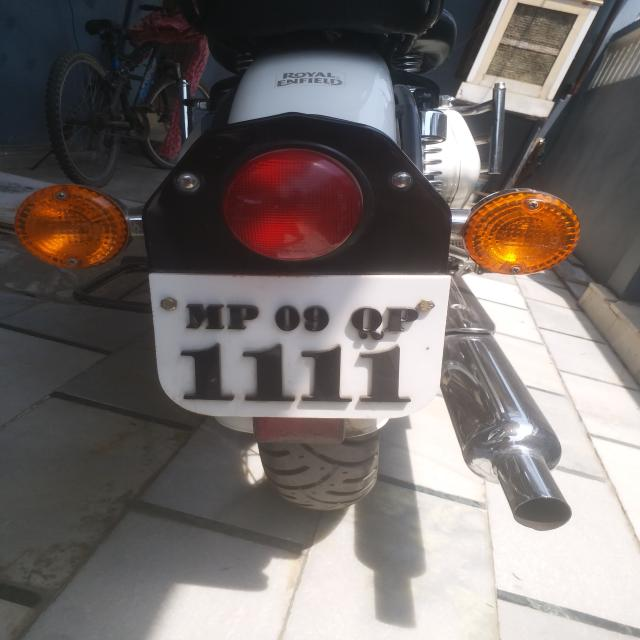number_plate: (148, 272, 452, 420)
